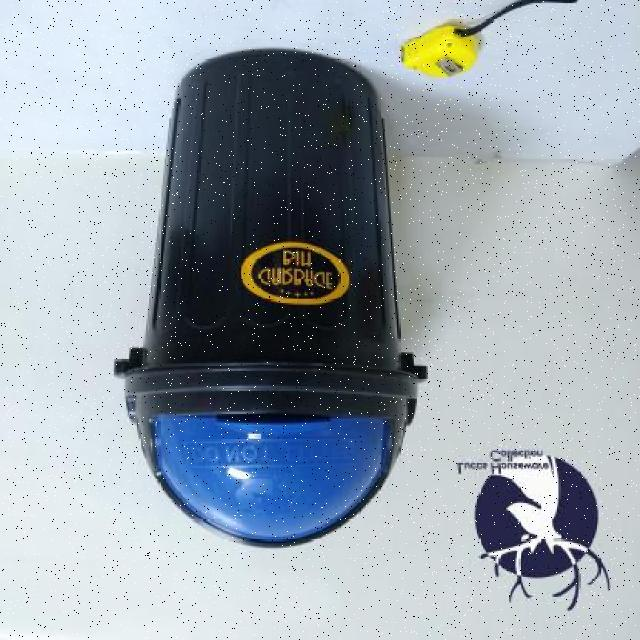garbage container: (96, 47, 430, 564)
